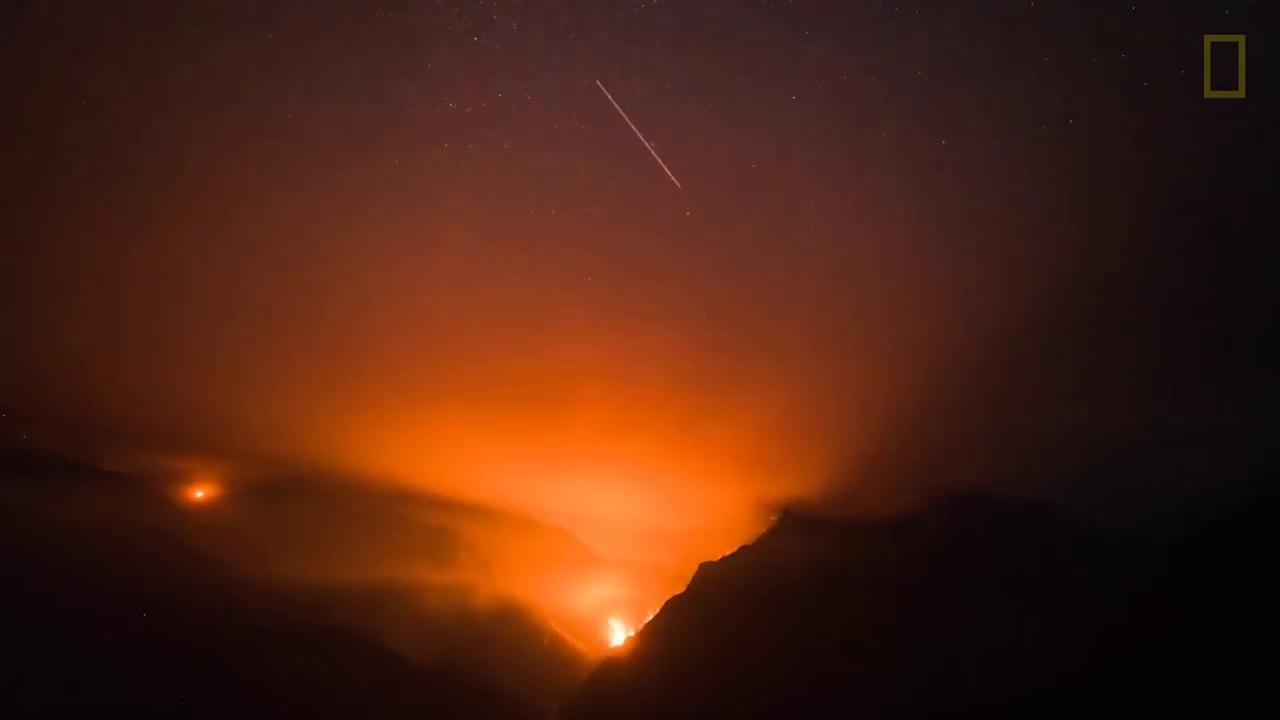Fire: (607, 603, 659, 648), (188, 483, 211, 502)
